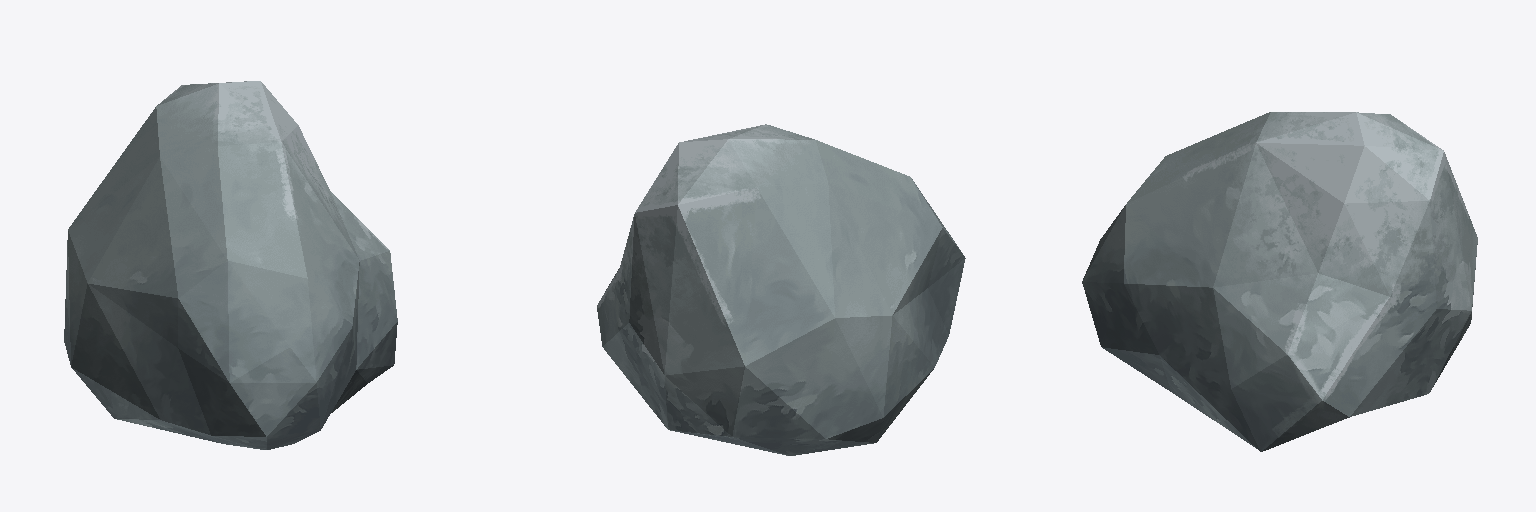
3 views of the same model, side by side, from view 1: azimuth 30°, elevation 25°; view 2: azimuth 150°, elevation 25°; view 3: azimuth 270°, elevation 25° (orthographic).
Visible parts, largest first — view 1: rock.005; view 2: rock.005; view 3: rock.005.
Boxes of the visible parts, <box> form: rock.005: <box>64,81,397,449</box>; rock.005: <box>597,124,965,455</box>; rock.005: <box>1082,112,1477,451</box>.
Size of the model in its own units: 7.16 by 6.58 by 8.18.
1 materials, 1 textured.